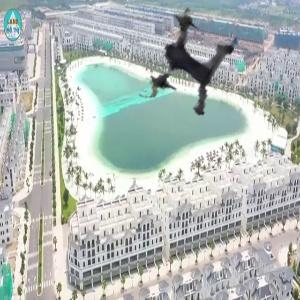drone: (124, 1, 248, 125)
